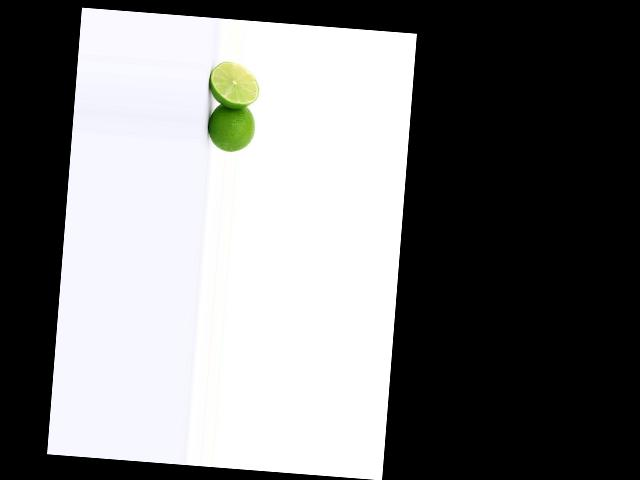lemon: (203, 102, 257, 155)
